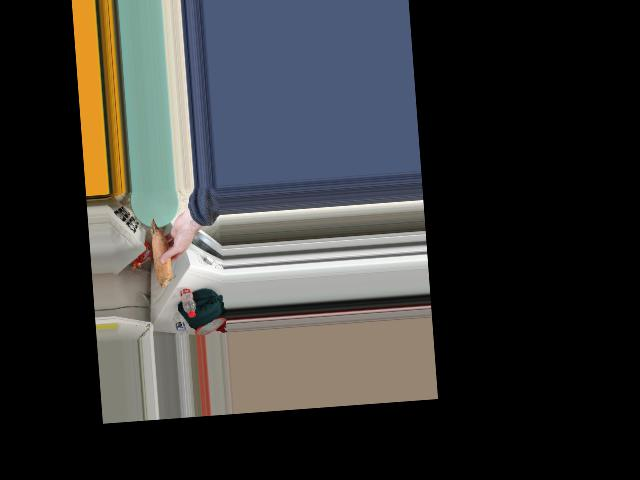sweet_potato: (150, 219, 177, 281)
